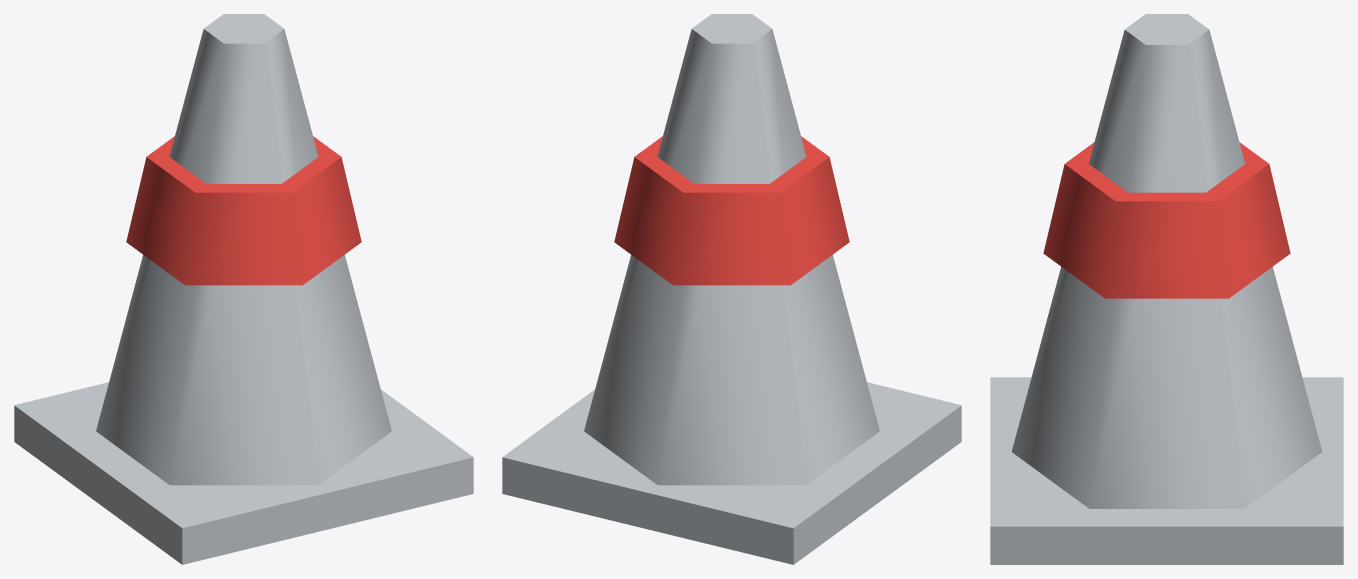
Rendered from traffic-cone.glb.
The picture shows the model from 3 angles, left to right: view 1: azimuth 30°, elevation 25°; view 2: azimuth 150°, elevation 25°; view 3: azimuth 270°, elevation 25°; orthographic projection. The views are drawn at different scales.
Visible parts, largest first — view 1: cone_body, cone_base, cone_stripe; view 2: cone_body, cone_base, cone_stripe; view 3: cone_body, cone_base, cone_stripe.
Boxes of the visible parts, left/top/right/bottom form: cone_body: left=96, top=14, right=391, bottom=485; cone_base: left=14, top=382, right=473, bottom=564; cone_stripe: left=126, top=136, right=361, bottom=285; cone_body: left=584, top=14, right=879, bottom=485; cone_base: left=502, top=382, right=961, bottom=564; cone_stripe: left=614, top=136, right=849, bottom=285; cone_body: left=1011, top=14, right=1322, bottom=508; cone_base: left=990, top=377, right=1343, bottom=564; cone_stripe: left=1043, top=142, right=1290, bottom=298.
Bounding box in the file's own units: 0.5 × 0.72 × 0.5.
